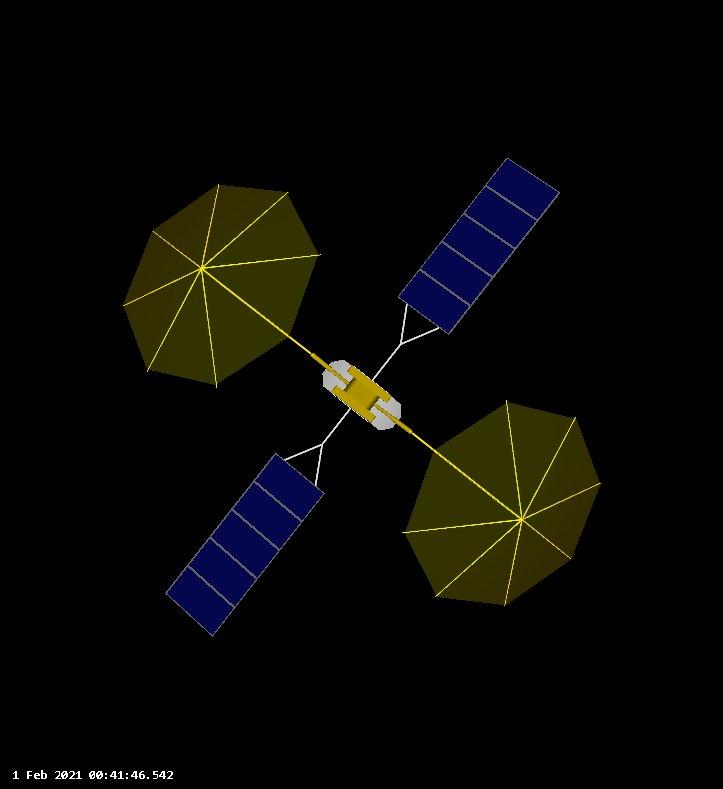antenna: (113, 178, 326, 387), (402, 397, 602, 608)
solar: (161, 442, 329, 639), (395, 151, 561, 349)
